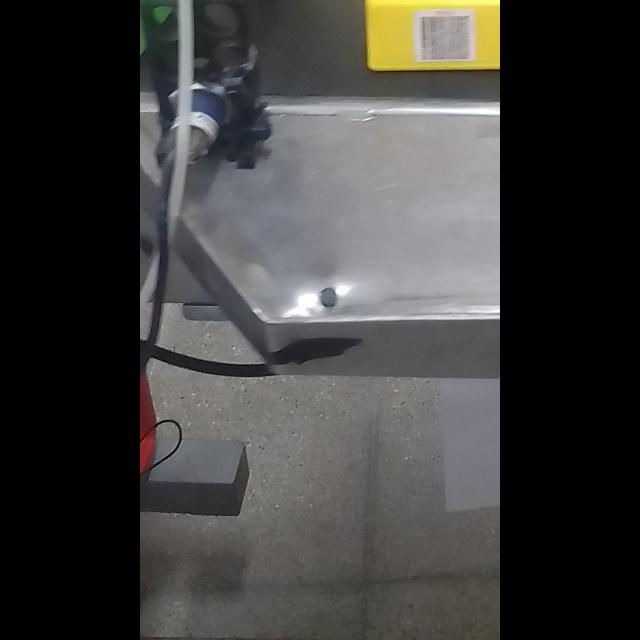yellowBox: (358, 0, 499, 82)
